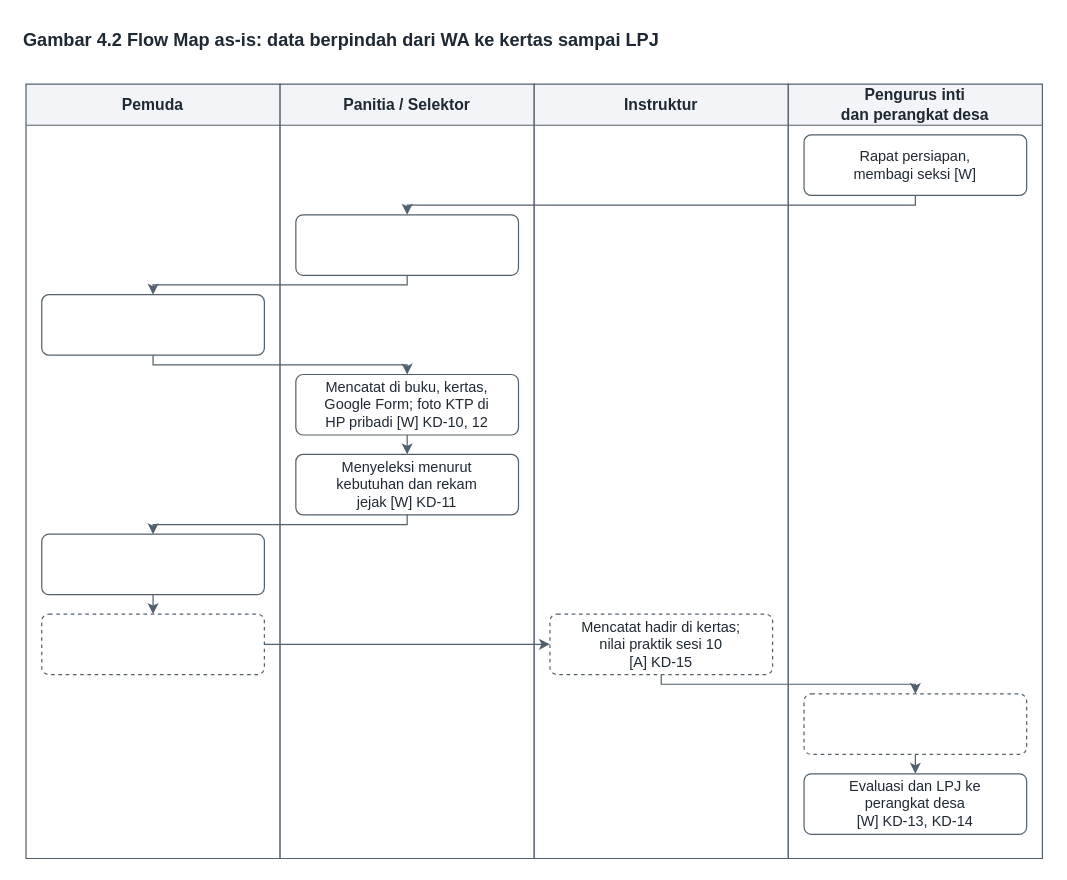
This 1067x880 diagram has some shape labels left out. The shapes that lost their labels are listed below. From the top down, each one's centre as x and y in pixels, then its label:
[406,244]: Menyebar info lewat grup WA dan lisan [W]
[152,324]: Menyatakan minat lewat WA atau lisan [W] KD-16
[152,564]: Menerima keputusan lewat WA [W]
[152,644]: Mengikuti 10 sesi [A]
[915,723]: Merekap hadir dan nilai, mengetik surat manual [A] KD-15
